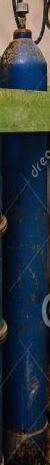cylinder: (0, 1, 50, 465)
